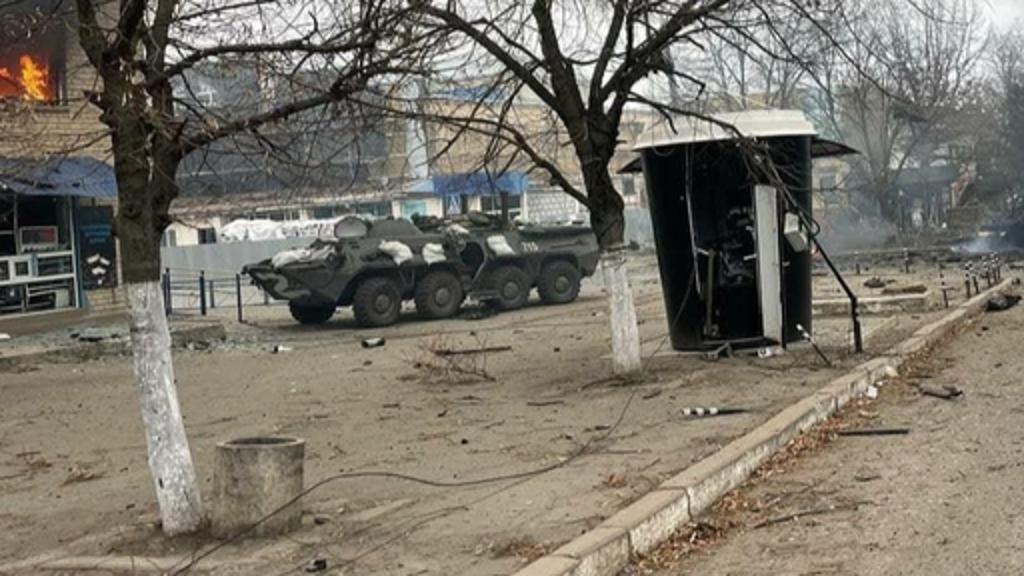APC-IFV: (238, 184, 608, 344)
